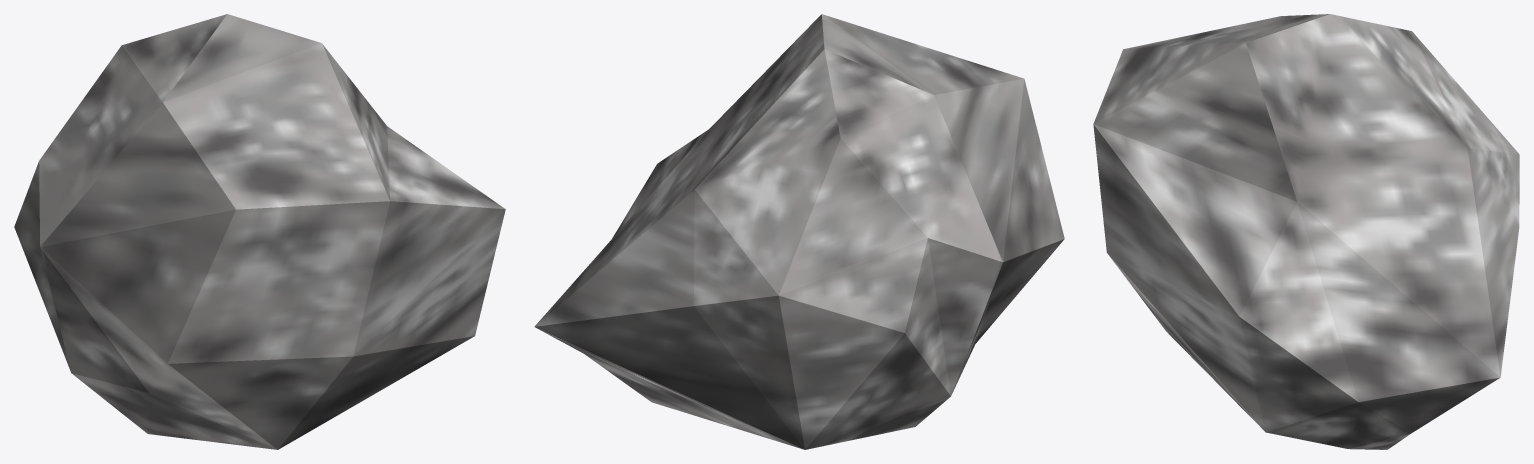
File: medium_rock_v3.glb
3 renders of one model, left to right at view 1: azimuth 30°, elevation 25°; view 2: azimuth 150°, elevation 25°; view 3: azimuth 270°, elevation 25°, orthographic. The views are drawn at different scales.
Parts seen in each view (by area): view 1: Sphere.009; view 2: Sphere.009; view 3: Sphere.009.
Part boxes in pixels (bbox=[...]): Sphere.009: bbox=[14, 14, 505, 449]; Sphere.009: bbox=[534, 14, 1064, 449]; Sphere.009: bbox=[1093, 14, 1519, 449].
Size of the model in its own units: 5.04 by 4.41 by 4.65.
Materials: 1 (1 with a texture image).
